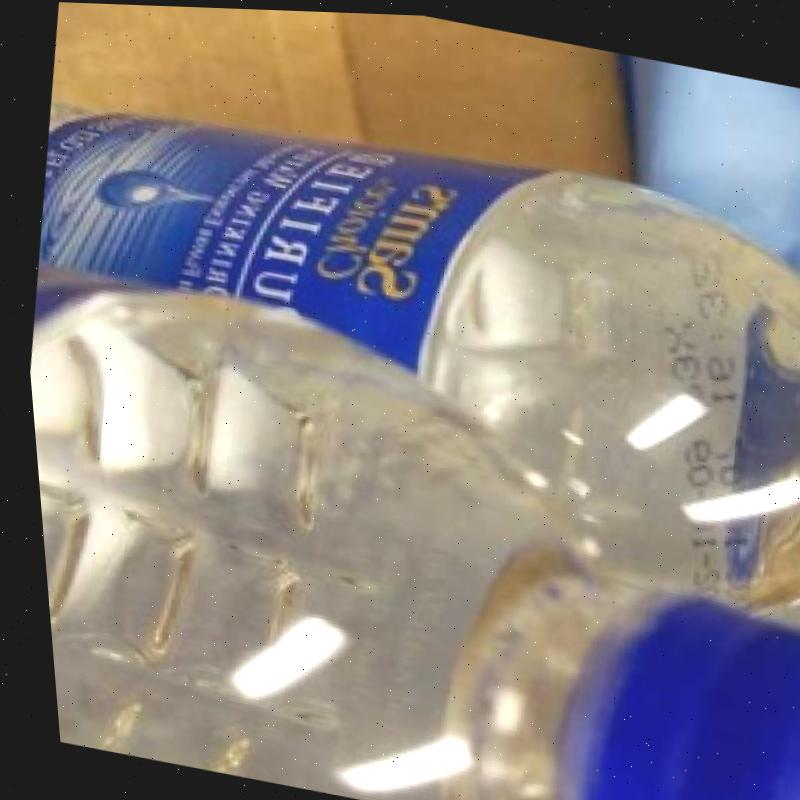botella: (4, 64, 800, 623), (16, 253, 800, 800)
